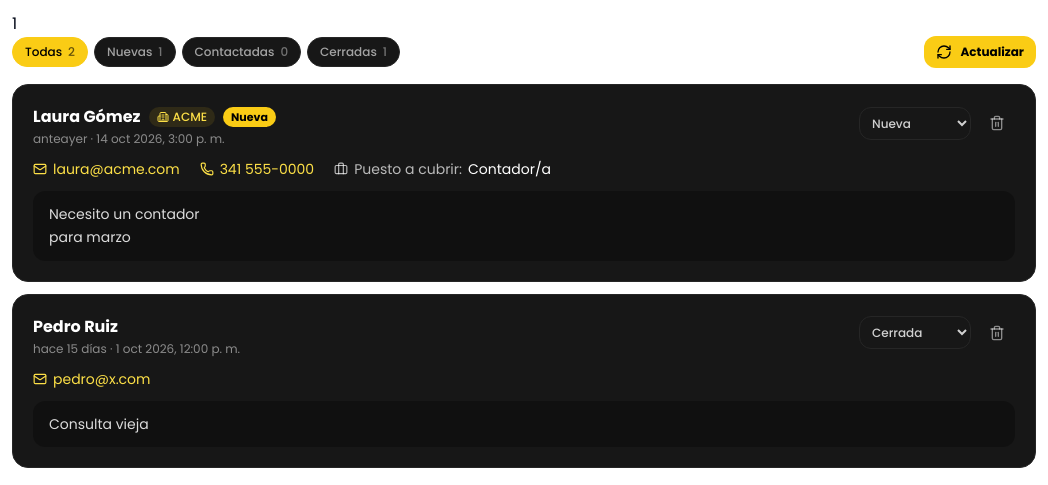
Scenario: Consultas de empresas › eliminar pide confirmación, hace DELETE y saca la fila
Check: the text "laura gómez" is shown, box [33,105,140,129]
Click the button named "Eliminar la consulta de laura".
click(997, 123)  # box [979,105,1015,141]
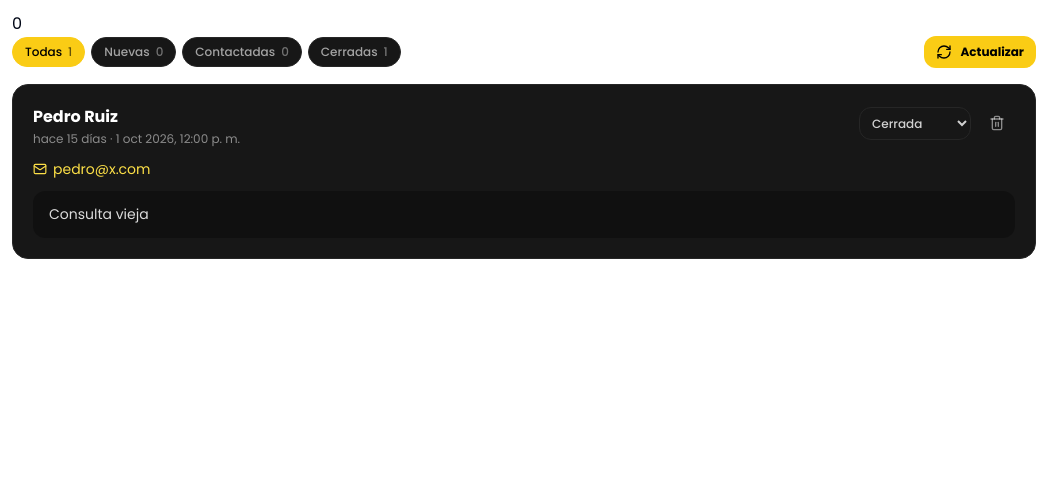
Check: the text "laura gómez" is gone
